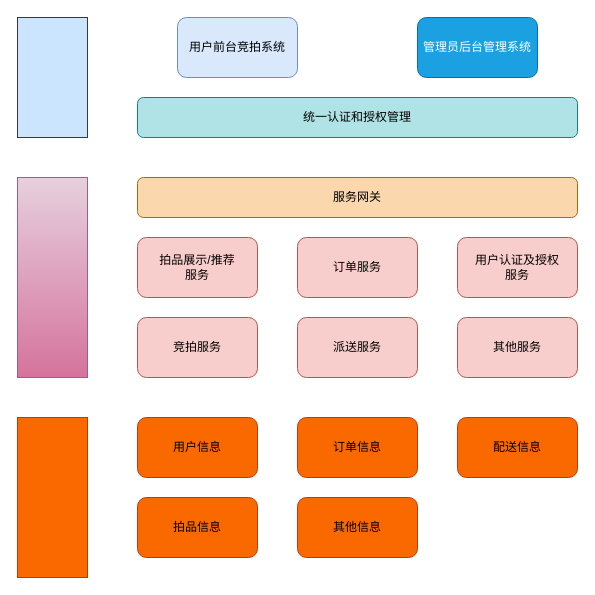
Some shapes in this 595 by 595 pixel diagram are drawn without their labels. Each missing label, with the centre of its shape:
应用层: pixel 52 77
数据层: pixel 52 497
服务层: pixel 52 277
